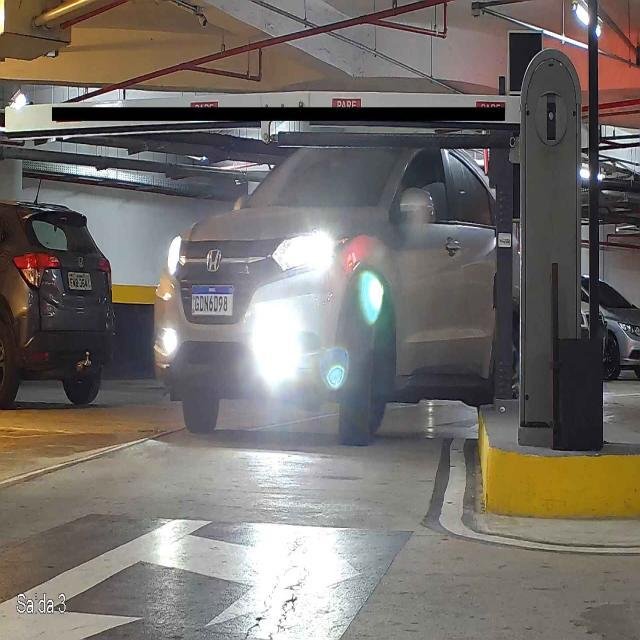mercosul_plate: (190, 284, 234, 317)
